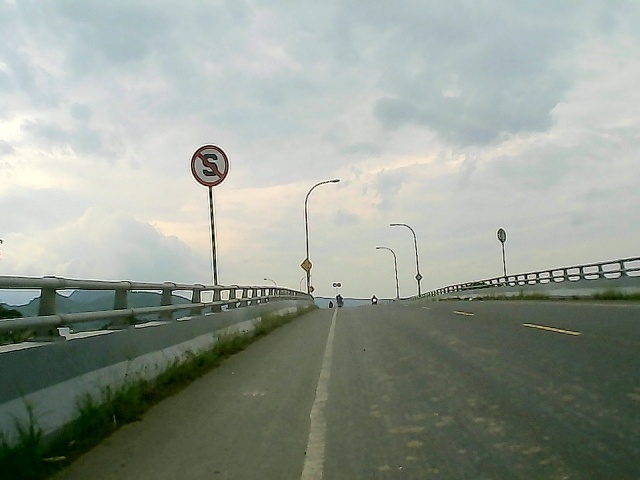Dilarang berhenti: (188, 144, 231, 189)
